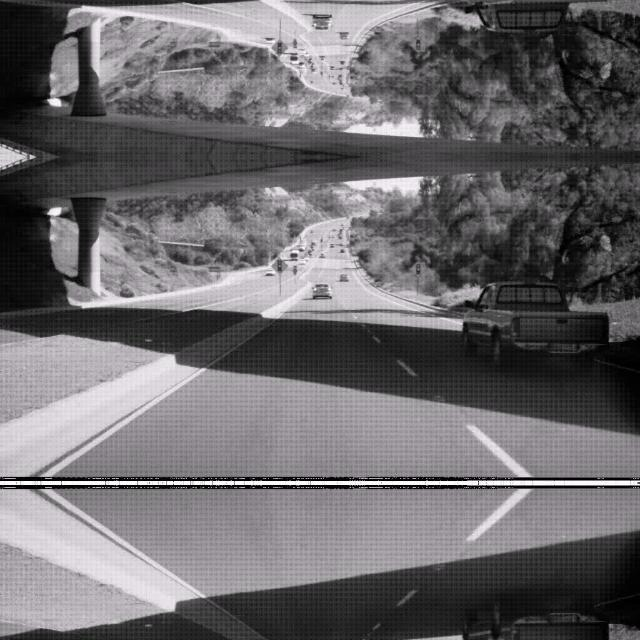signalAhead: (270, 255, 288, 273), (408, 259, 426, 277), (270, 39, 288, 57), (408, 35, 426, 53)
